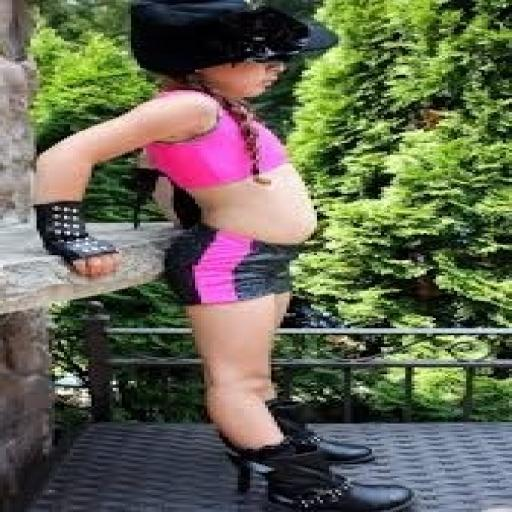dancing: (27, 0, 420, 510)
